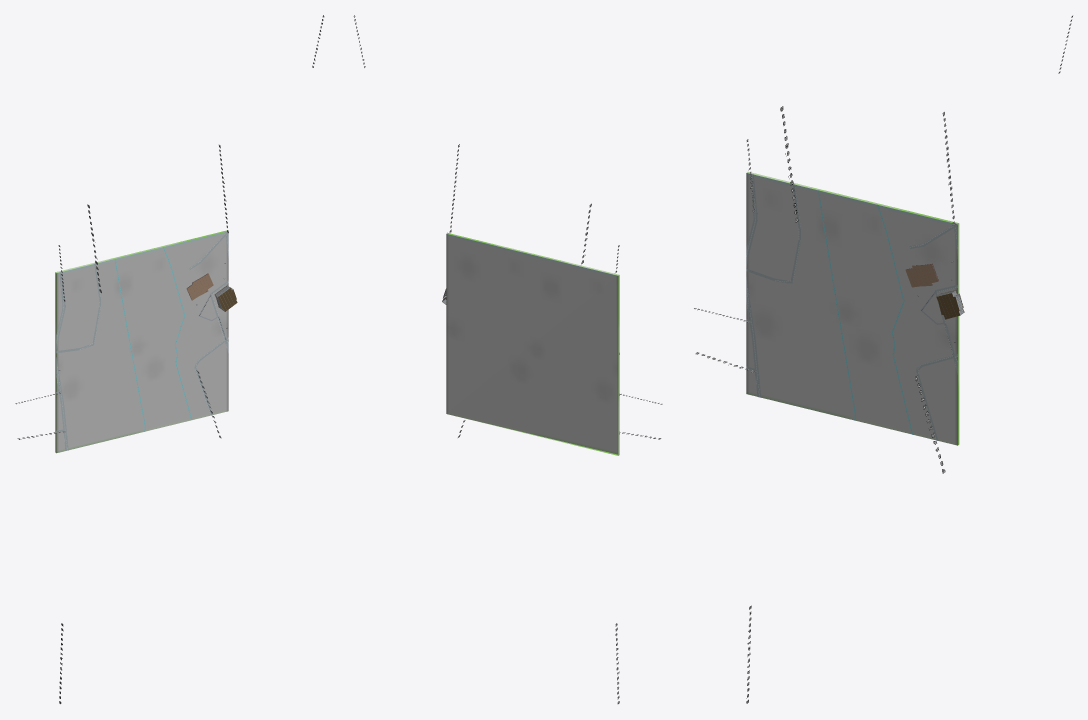
3 views of the same model, side by side, from view 1: azimuth 30°, elevation 25°; view 2: azimuth 150°, elevation 25°; view 3: azimuth 330°, elevation 25° (orthographic). The views are drawn at different scales.
Visible parts, largest first — view 1: POLYGON, POLYLINE, BUILDING, FONT; view 2: POLYGON, FONT; view 3: POLYGON, POLYLINE, BUILDING, FONT.
Part boxes in pixels (<box>): POLYGON: <box>55,230,228,453</box>; POLYLINE: <box>56,231,228,450</box>; BUILDING: <box>186,273,237,311</box>; FONT: <box>15,15,324,703</box>; POLYGON: <box>446,233,619,455</box>; FONT: <box>353,15,662,703</box>; POLYGON: <box>746,171,959,445</box>; POLYLINE: <box>746,174,957,440</box>; BUILDING: <box>905,263,964,319</box>; FONT: <box>694,15,1072,703</box>.
Bounding box in the file's own units: 1096 × 2122 × 29.
4 materials, 4 textured.
